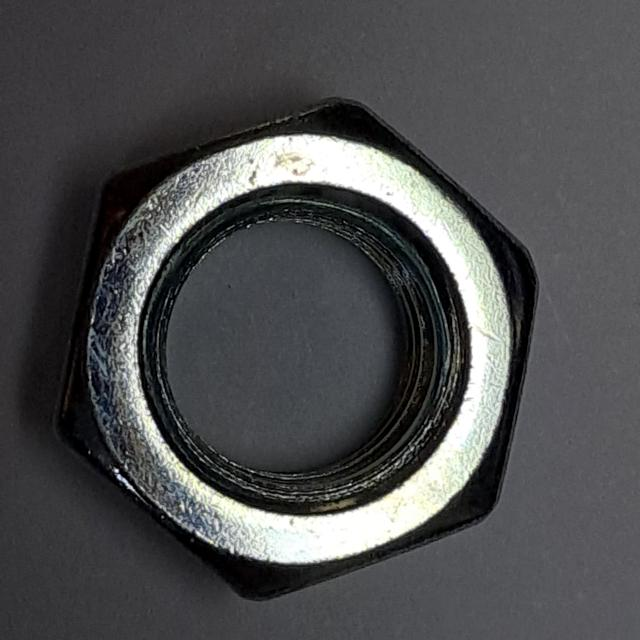Excellent: (49, 85, 553, 618)
